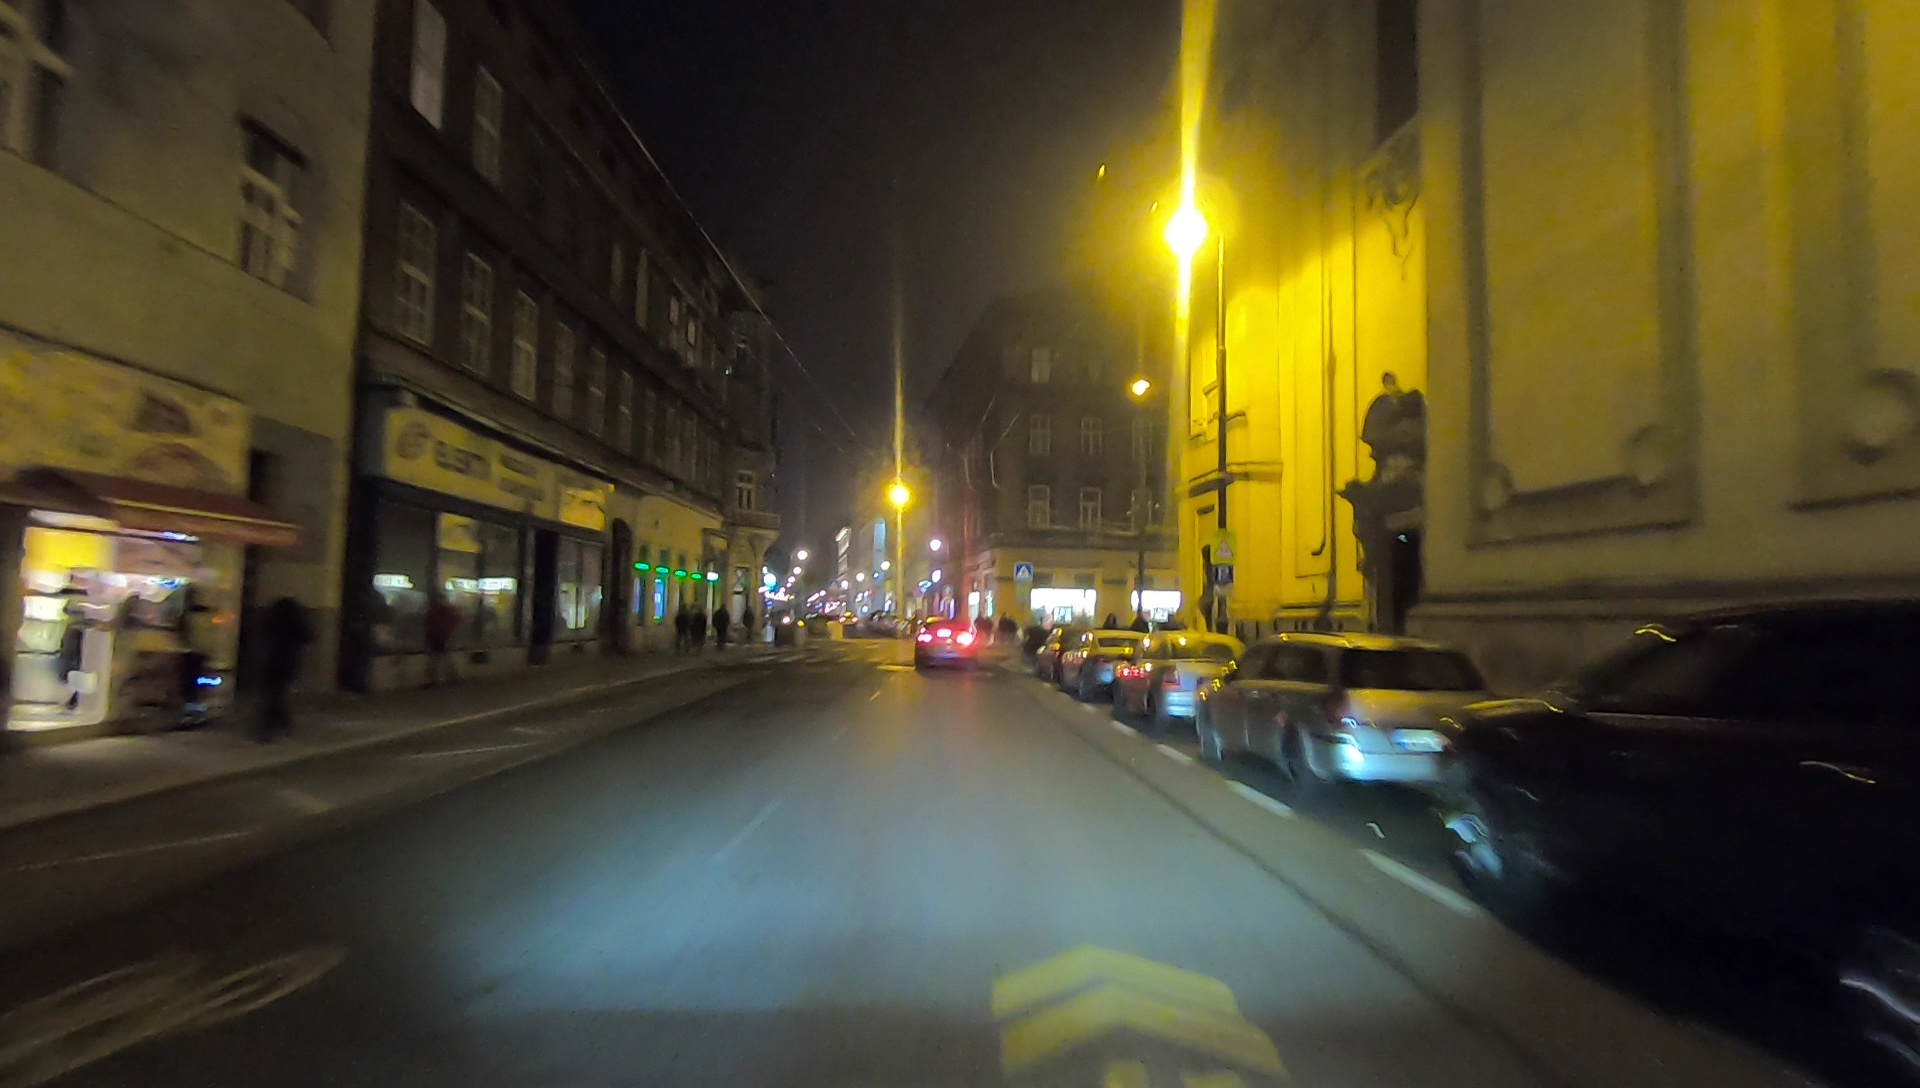person: (252, 587, 310, 730), (428, 599, 462, 695), (712, 599, 735, 656), (673, 598, 691, 656), (693, 605, 707, 659), (741, 604, 753, 643)
